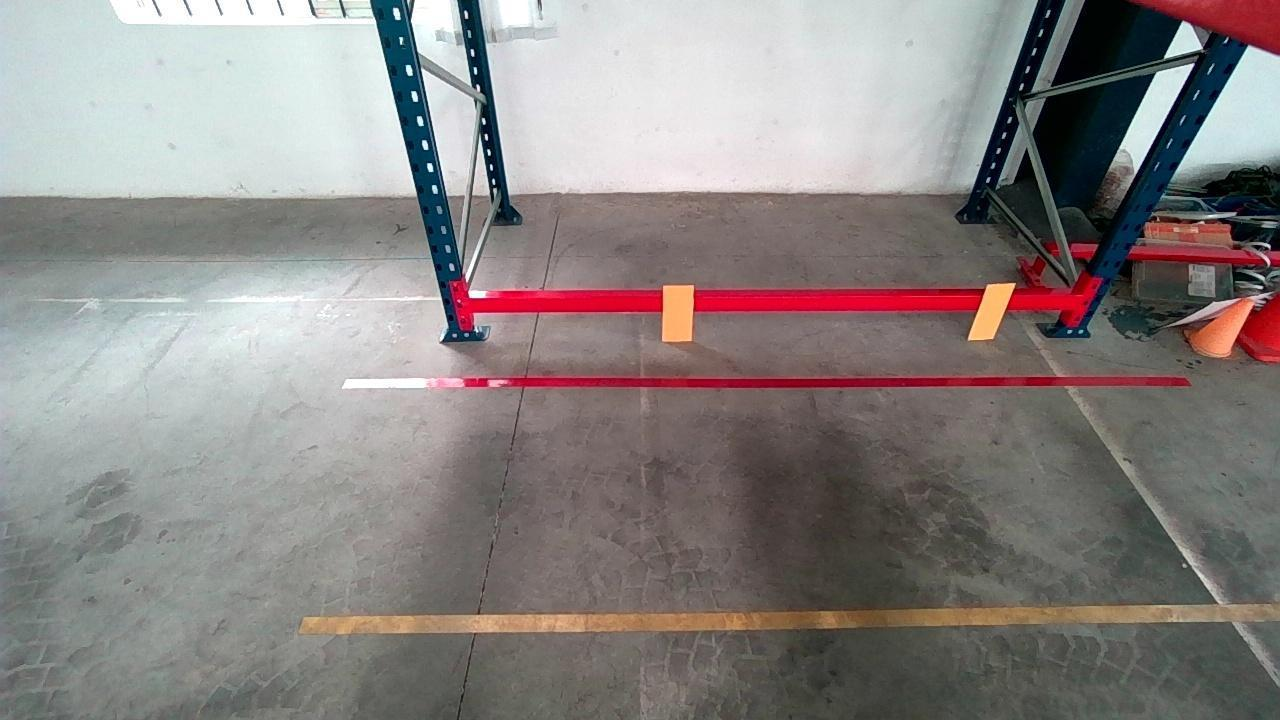h_rack: (469, 283, 1074, 314)
orange_strip: (967, 282, 1018, 339), (662, 283, 694, 340)
red_line: (346, 371, 1183, 396)
yellow_line: (309, 596, 1262, 640)
